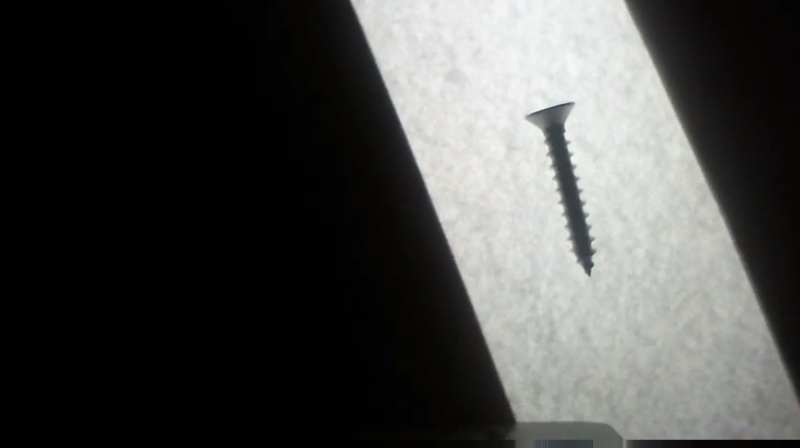S001: (520, 96, 601, 282)
